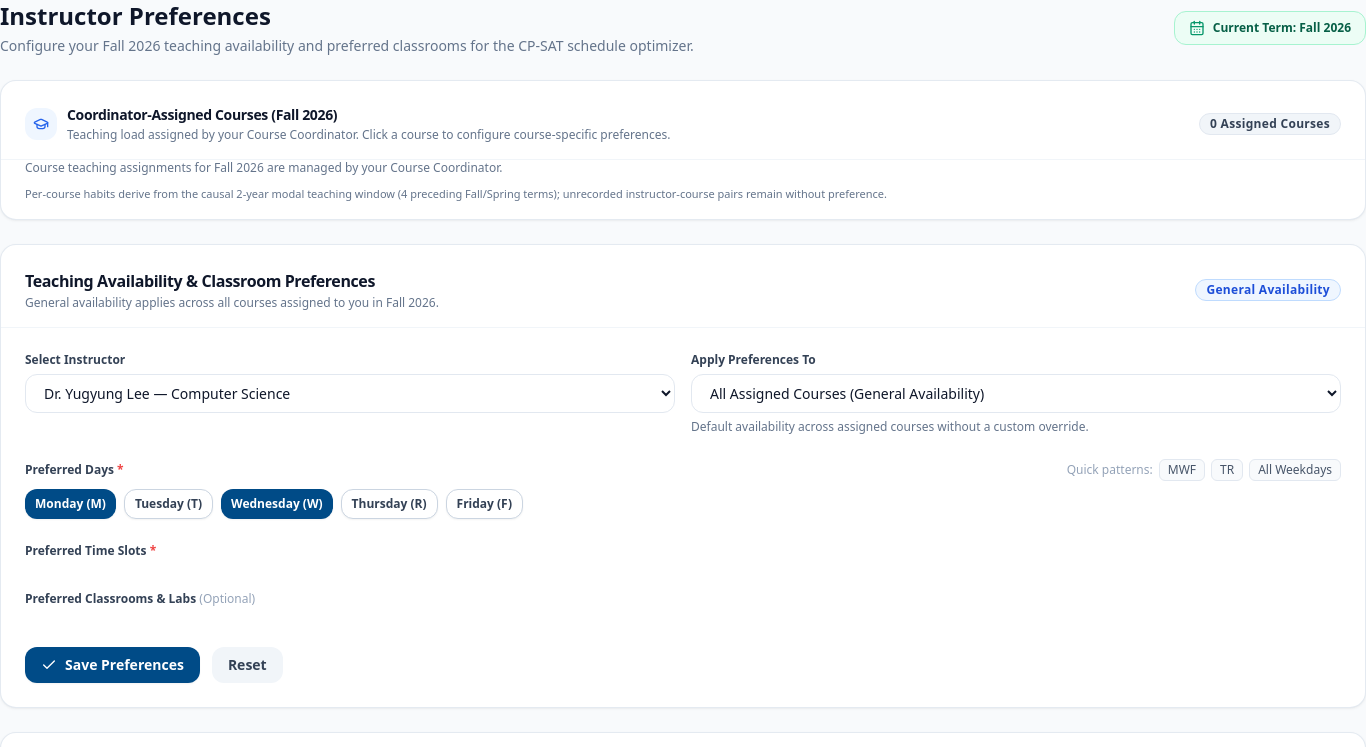
Test: PreferencesPage Component › toggles day and time slot selection buttons
Click the button "Friday (F)": click(484, 504) [446,488,523,518]
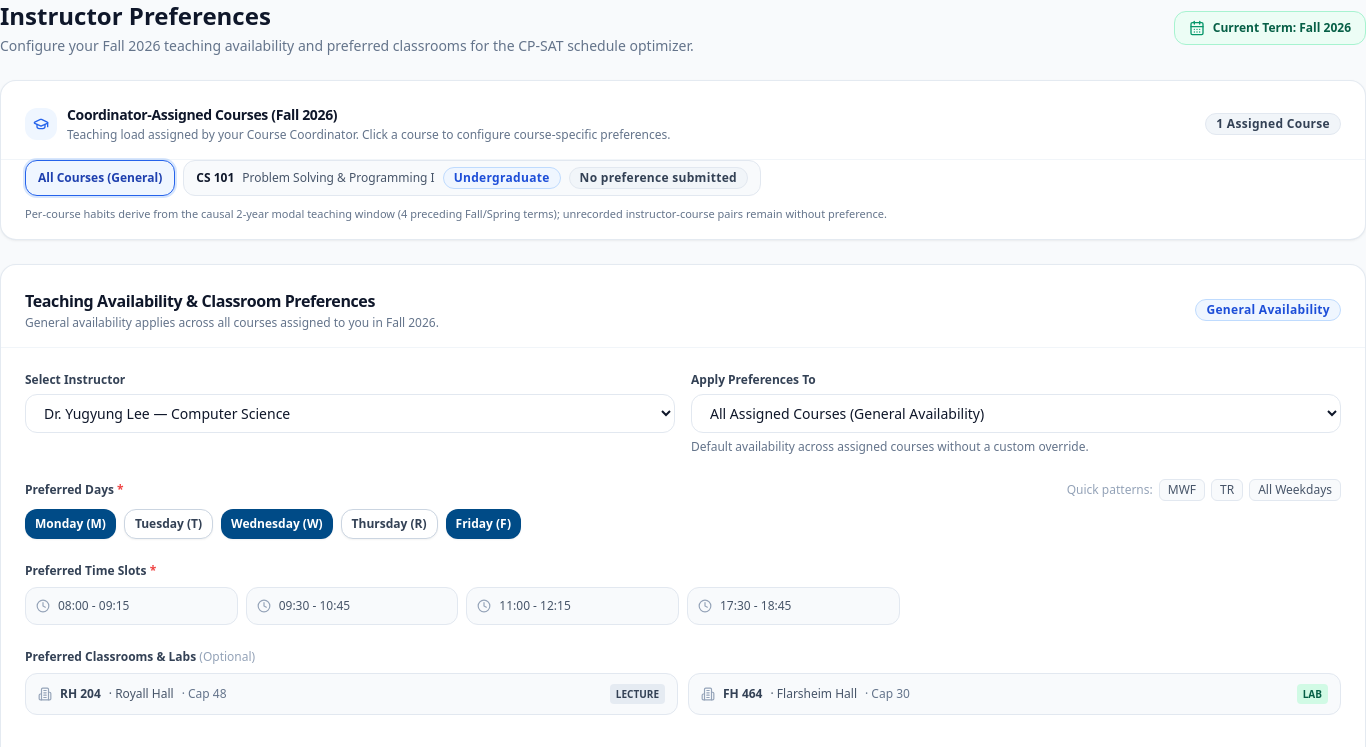
Now the button "Friday (F)" is pressed, box [446,508,521,538]
Click the button with test id "slot-09:30-10:45": click(352, 606) [246,586,458,624]
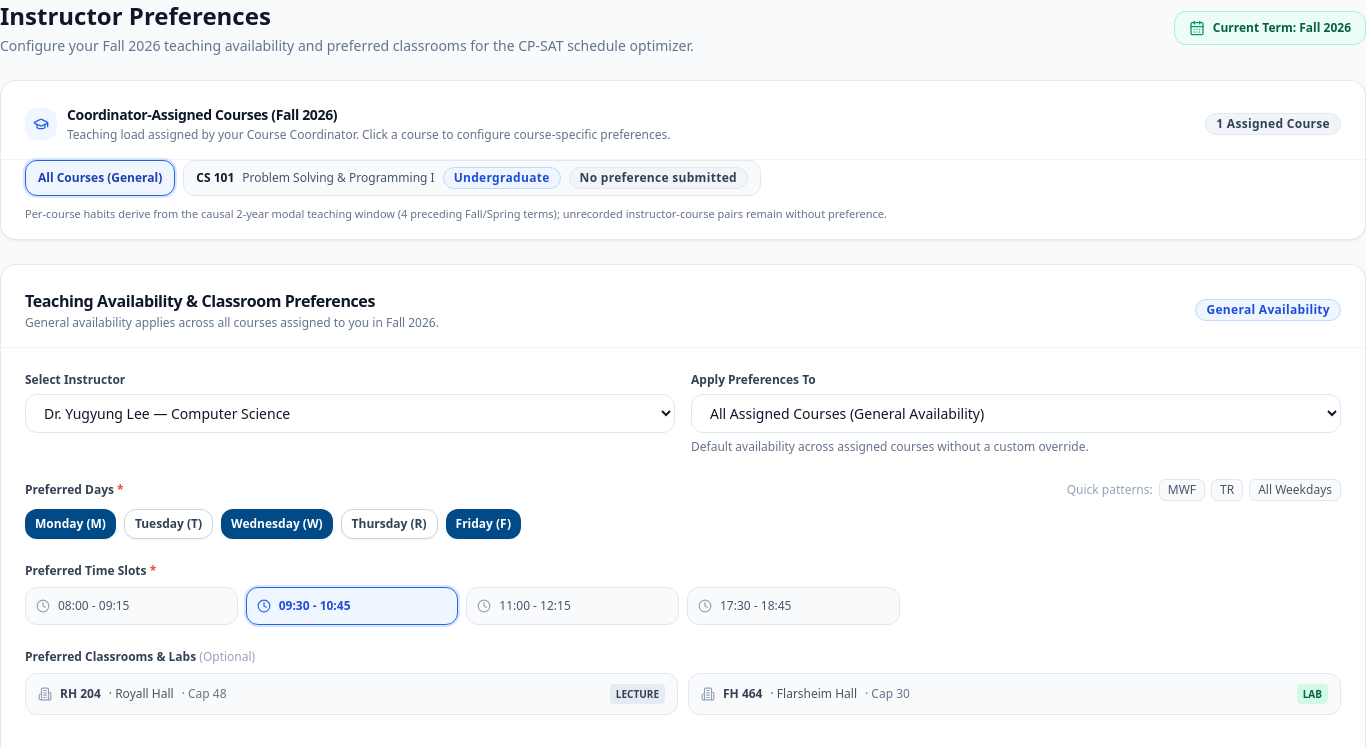
Now the button with test id "slot-09:30-10:45" has class "bg-blue-50"
Now the button with test id "slot-09:30-10:45" has class "border-blue-600"
Click the button with test id "slot-09:30-10:45": click(352, 606) [246,586,458,624]
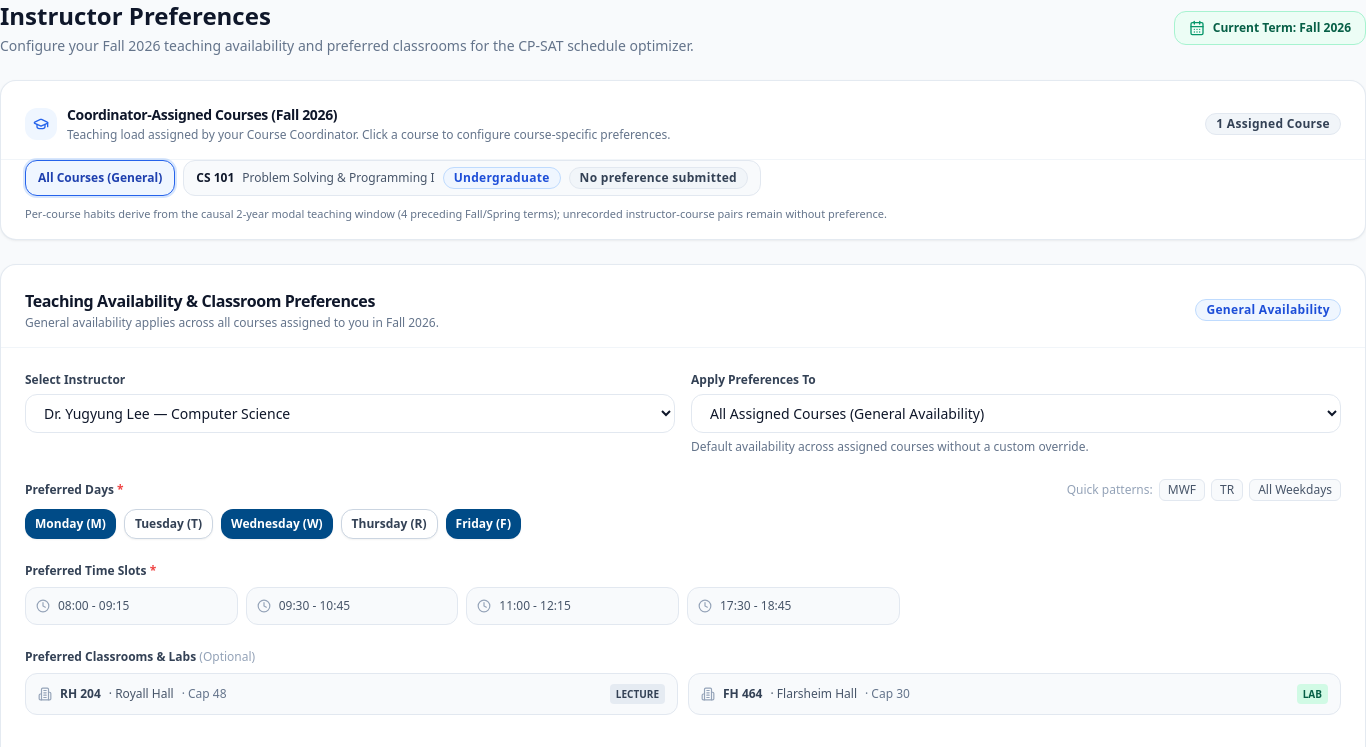
Now the button with test id "slot-09:30-10:45" has class "bg-slate-50", box [246,586,458,624]
